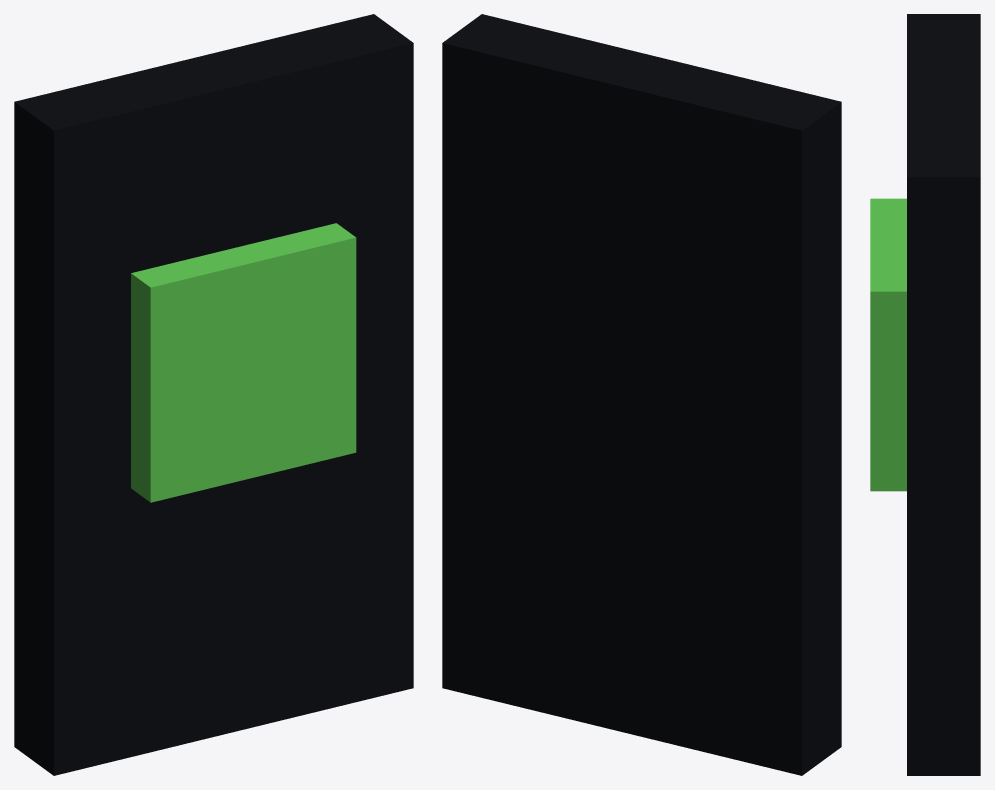
File: prop.subroom_keypad_panel.glb
The picture shows the model from 3 angles, left to right: view 1: azimuth 30°, elevation 25°; view 2: azimuth 150°, elevation 25°; view 3: azimuth 270°, elevation 25°; orthographic projection. The views are drawn at different scales.
Parts seen in each view (by area): view 1: panel_body, keypad_glow; view 2: panel_body; view 3: panel_body, keypad_glow.
Boxes of the visible parts, <box> form: panel_body: <box>14,14,413,775</box>; keypad_glow: <box>131,223,356,502</box>; panel_body: <box>442,14,841,775</box>; panel_body: <box>907,14,980,775</box>; keypad_glow: <box>870,198,906,491</box>.
Bounding box in the file's own units: 0.42 × 0.72 × 0.12.
